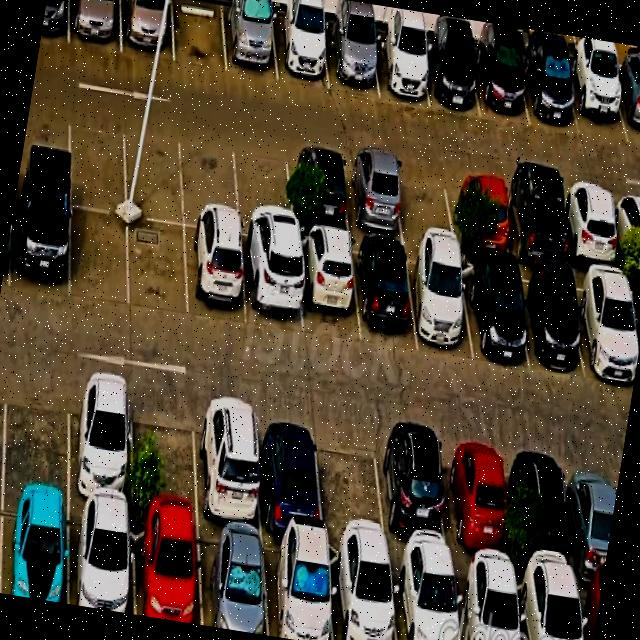empty: (316, 416, 387, 552), (133, 383, 199, 522), (3, 364, 69, 498), (233, 137, 294, 243), (124, 119, 184, 225), (129, 217, 188, 320), (69, 109, 126, 213), (182, 129, 239, 233), (71, 207, 129, 308), (394, 160, 456, 246), (172, 0, 227, 72)
occupied: (375, 425, 452, 561), (441, 433, 510, 571), (196, 394, 262, 532), (256, 405, 323, 539), (69, 372, 132, 510), (513, 442, 576, 578), (197, 524, 268, 636), (512, 266, 584, 373), (459, 259, 529, 369), (132, 514, 201, 625), (571, 269, 638, 383), (0, 494, 69, 604), (406, 248, 473, 360), (263, 535, 333, 640), (69, 502, 134, 615), (352, 239, 418, 348), (565, 451, 618, 582), (297, 232, 360, 342), (328, 544, 397, 640), (10, 192, 71, 299), (185, 227, 246, 326), (241, 238, 303, 335), (502, 177, 568, 267), (390, 557, 460, 640), (449, 169, 512, 257), (287, 146, 350, 234), (343, 153, 405, 240), (453, 563, 521, 640), (565, 60, 628, 143), (561, 184, 621, 269), (521, 49, 579, 135), (515, 572, 583, 640), (473, 43, 529, 125), (421, 39, 480, 116), (272, 11, 329, 89), (371, 31, 429, 107), (223, 2, 277, 81), (325, 23, 379, 96), (120, 0, 174, 61), (69, 0, 121, 52), (610, 66, 640, 145), (612, 190, 640, 271), (576, 579, 603, 640), (626, 276, 640, 356)
